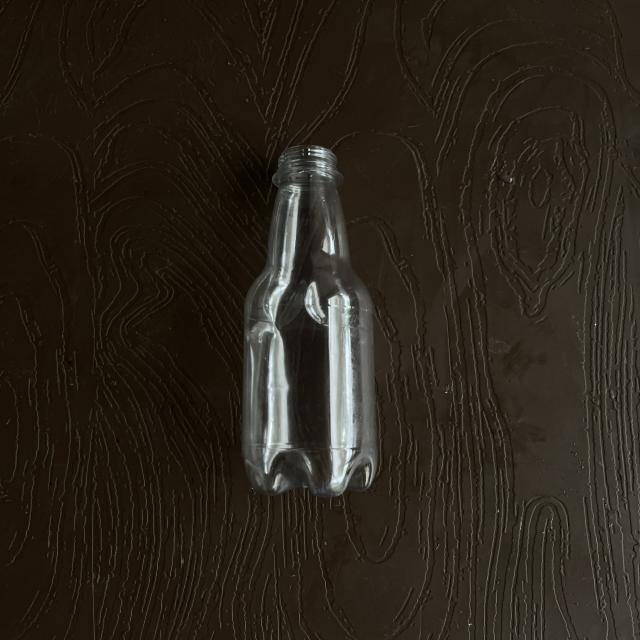PET_ClearBottle: (233, 143, 389, 502)
